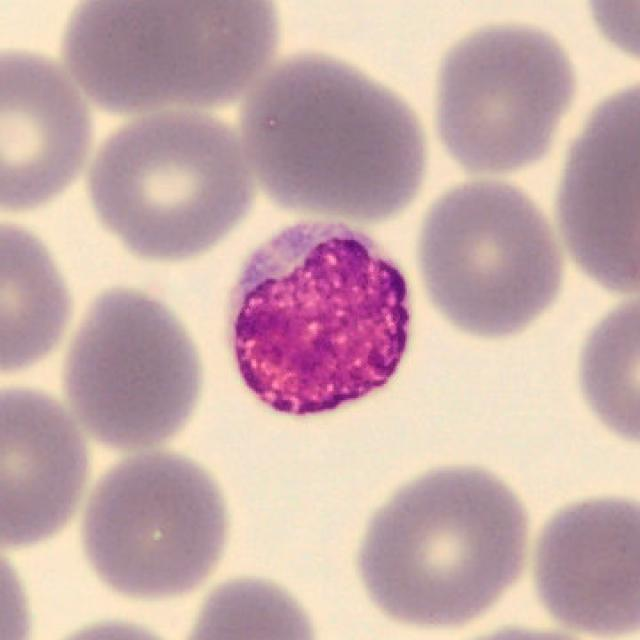Linfocito: (229, 222, 412, 416)
